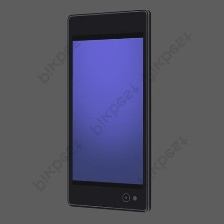phone: (64, 7, 154, 214)
